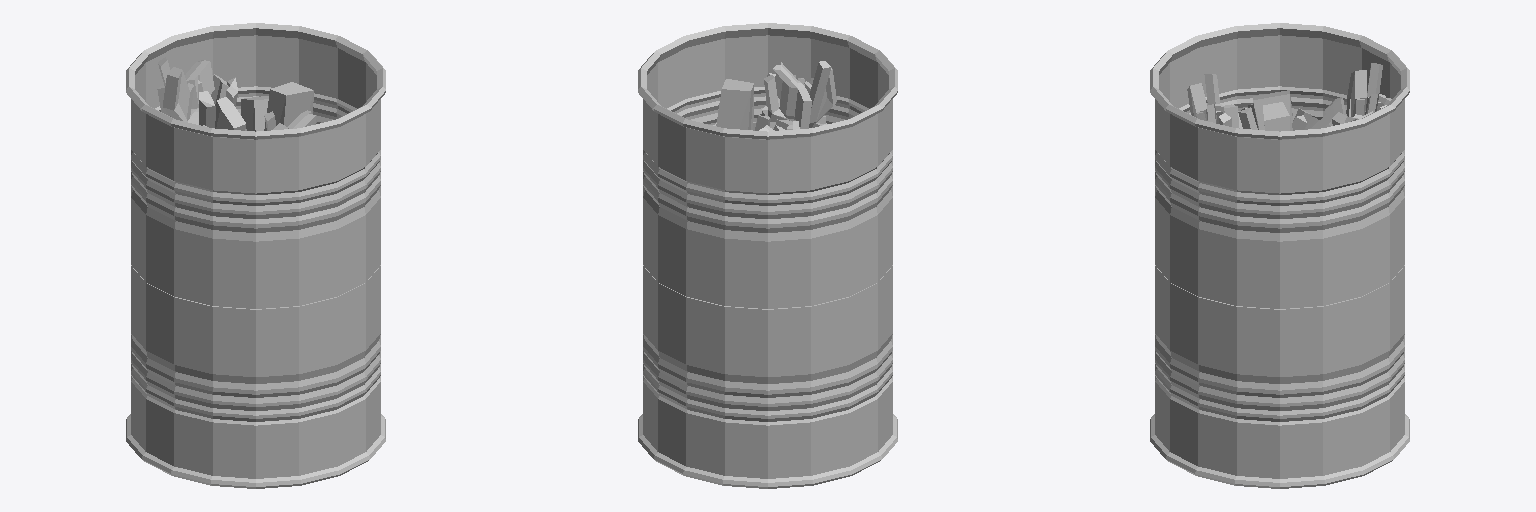
Rendered from Oil Tank.obj.
3 views of the same model, side by side, from view 1: azimuth 30°, elevation 25°; view 2: azimuth 150°, elevation 25°; view 3: azimuth 270°, elevation 25° (orthographic).
Visible parts, largest first — view 1: Cylinder001, Cylinder004, OilTank001, Box001; view 2: Cylinder001, Cylinder004, OilTank001, Box001; view 3: Cylinder001, Cylinder004, OilTank001, GeoSphere003, Box001, Box002.
Boxes of the visible parts, <box> form: Cylinder001: <box>126,23,385,308</box>; Cylinder004: <box>126,265,385,488</box>; OilTank001: <box>157,57,316,130</box>; Box001: <box>241,82,313,131</box>; Cylinder001: <box>638,23,897,308</box>; Cylinder004: <box>638,265,897,488</box>; OilTank001: <box>759,61,836,131</box>; Box001: <box>716,79,753,129</box>; Cylinder001: <box>1150,23,1409,308</box>; Cylinder004: <box>1150,265,1409,488</box>; OilTank001: <box>1187,63,1391,128</box>; GeoSphere003: <box>1238,104,1318,130</box>; Box001: <box>1263,102,1292,131</box>; Box002: <box>1253,90,1292,129</box>.
Bounding box in the file's own units: 57.74 × 86.04 × 56.81.